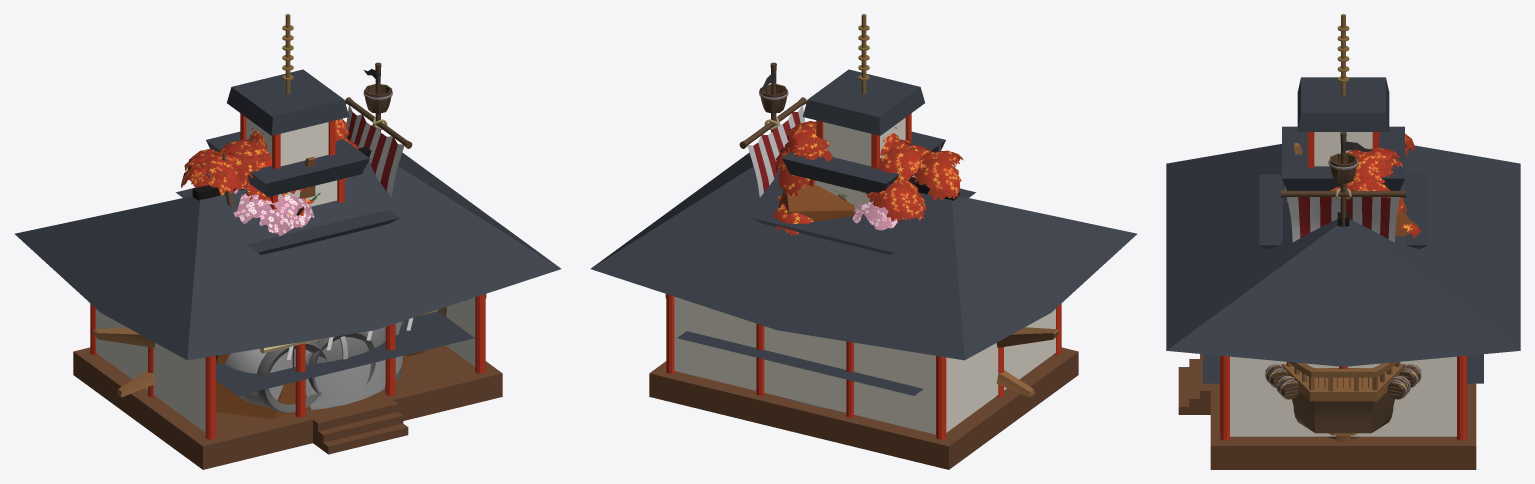
File: kit.glb
3 renders of one model, left to right at view 1: azimuth 30°, elevation 25°; view 2: azimuth 150°, elevation 25°; view 3: azimuth 270°, elevation 25°, orthographic. The views are drawn at different scales.
Parts seen in each view (by area): view 1: kit_js_ShrineHall, kit_js_Pagoda, kit_pf_Ship_Large, kit_m_Base_Large, kit_m_Building_L, kit_mn_Birch_3, kit_mn_Tree_6, kit_m_Rock_Large_2, kit_mn_Birch_6, kit_m_House_Long; view 2: kit_js_ShrineHall, kit_js_Pagoda, kit_pf_Ship_Large, kit_mn_Birch_6, kit_mn_Birch_3, kit_m_Rock_Large_2, kit_mn_Birch_8, kit_mn_Tree_6; view 3: kit_js_ShrineHall, kit_js_Pagoda, kit_pf_Ship_Large, kit_mn_Birch_8, kit_mn_Birch_3.
Part boxes in pixels (x1,y1,x2,y2): kit_js_ShrineHall: (14,146,560,469); kit_js_Pagoda: (176,14,474,395); kit_pf_Ship_Large: (93,62,486,356); kit_m_Base_Large: (305,321,404,409); kit_m_Building_L: (225,341,327,412); kit_mn_Birch_3: (181,128,313,215); kit_mn_Tree_6: (233,187,314,236); kit_m_Rock_Large_2: (216,353,311,418); kit_mn_Birch_6: (187,139,311,196); kit_m_House_Long: (308,332,375,396); kit_js_ShrineHall: (591,148,1137,469); kit_js_Pagoda: (677,14,975,395); kit_pf_Ship_Large: (665,62,1058,347); kit_mn_Birch_6: (771,139,932,235); kit_mn_Birch_3: (792,128,963,200); kit_m_Rock_Large_2: (778,184,854,221); kit_mn_Birch_8: (775,121,916,198); kit_mn_Tree_6: (852,175,914,230); kit_js_ShrineHall: (1166,144,1520,469); kit_js_Pagoda: (1203,14,1483,383); kit_pf_Ship_Large: (1265,131,1421,433); kit_mn_Birch_8: (1330,149,1406,213); kit_mn_Birch_3: (1370,148,1402,176).
Bounding box in the file's own units: 15.43 × 14.56 × 12.
Materials: 239 (5 with a texture image).
